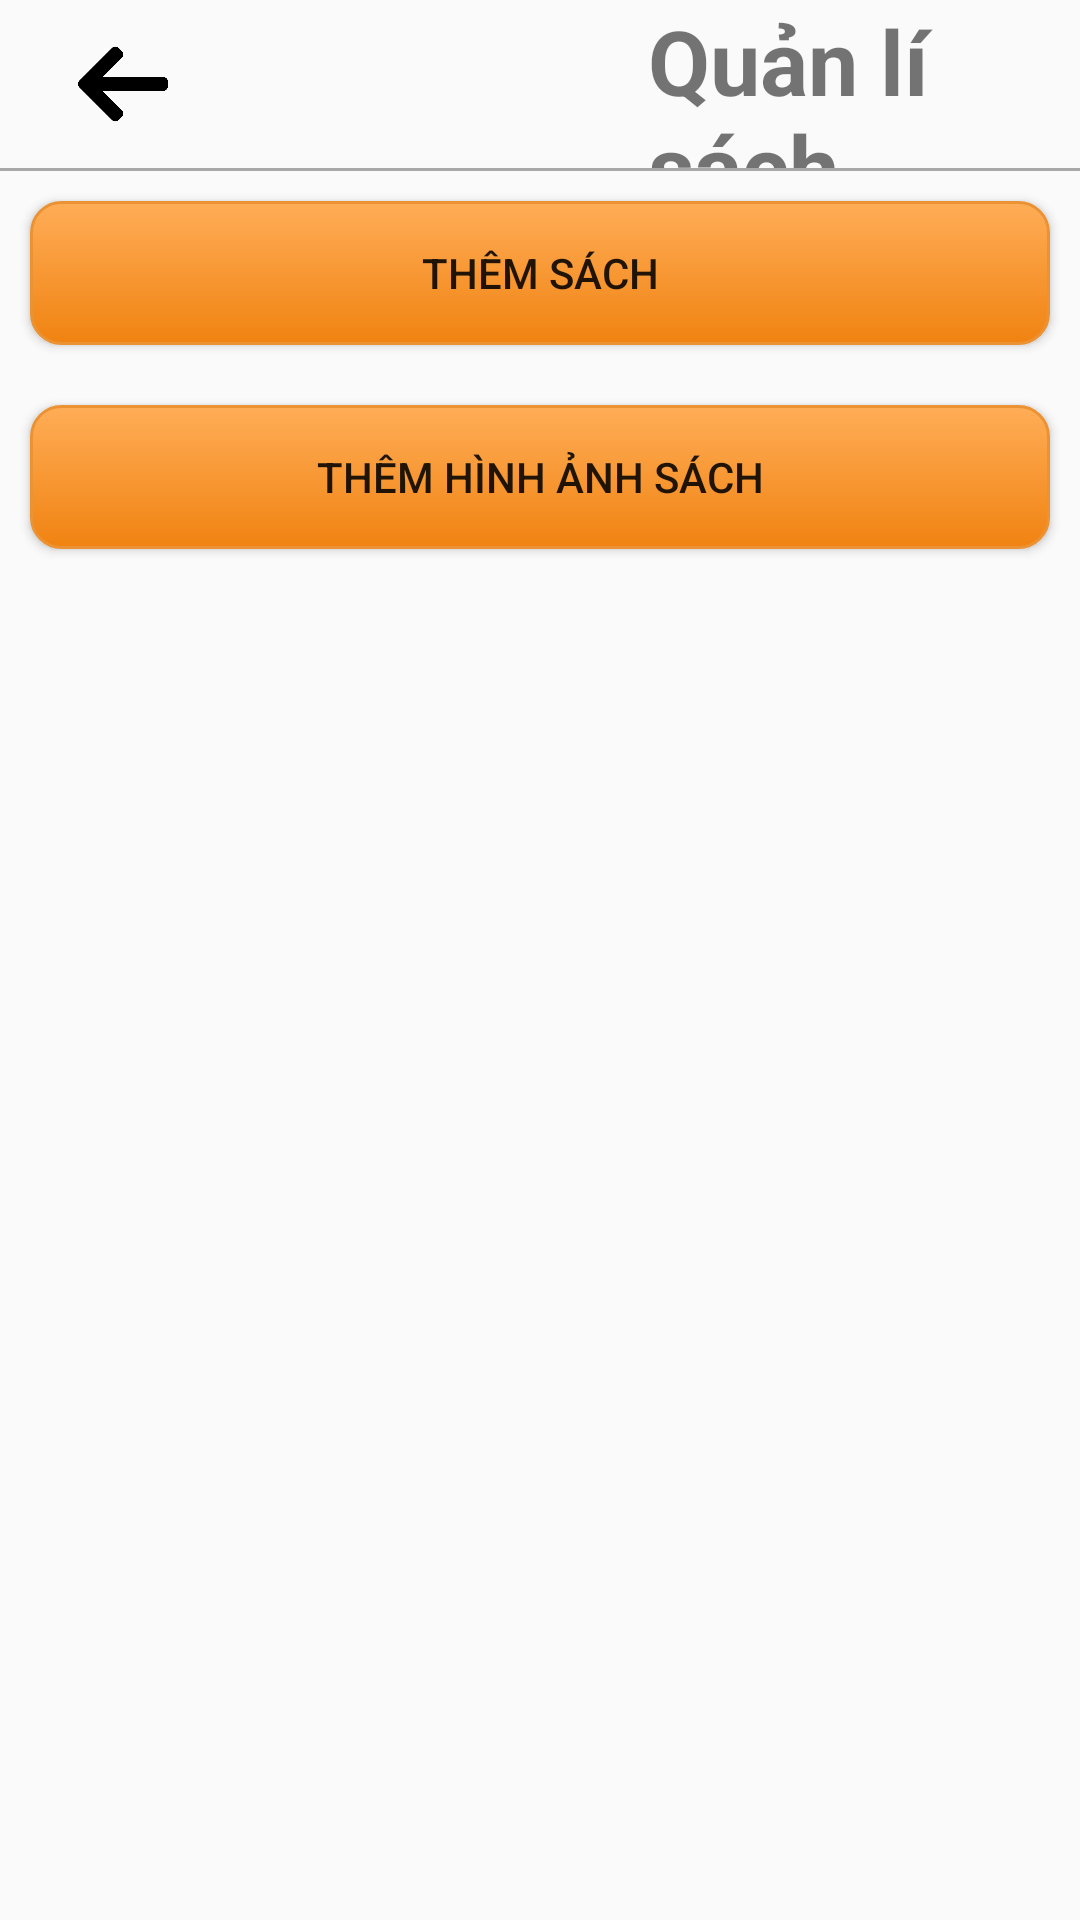

Point at icon controls on the screen. Image size 1080px×1920px, points as [x,y].
left arrow: [123,84]
